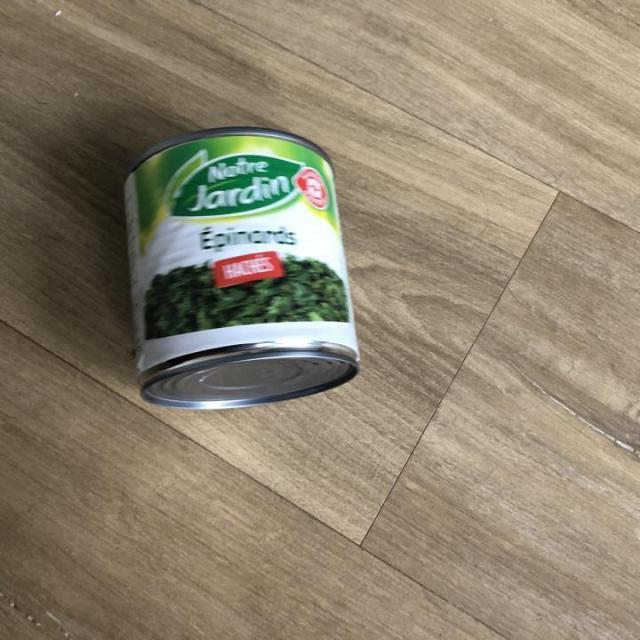Can: (120, 124, 362, 414)
